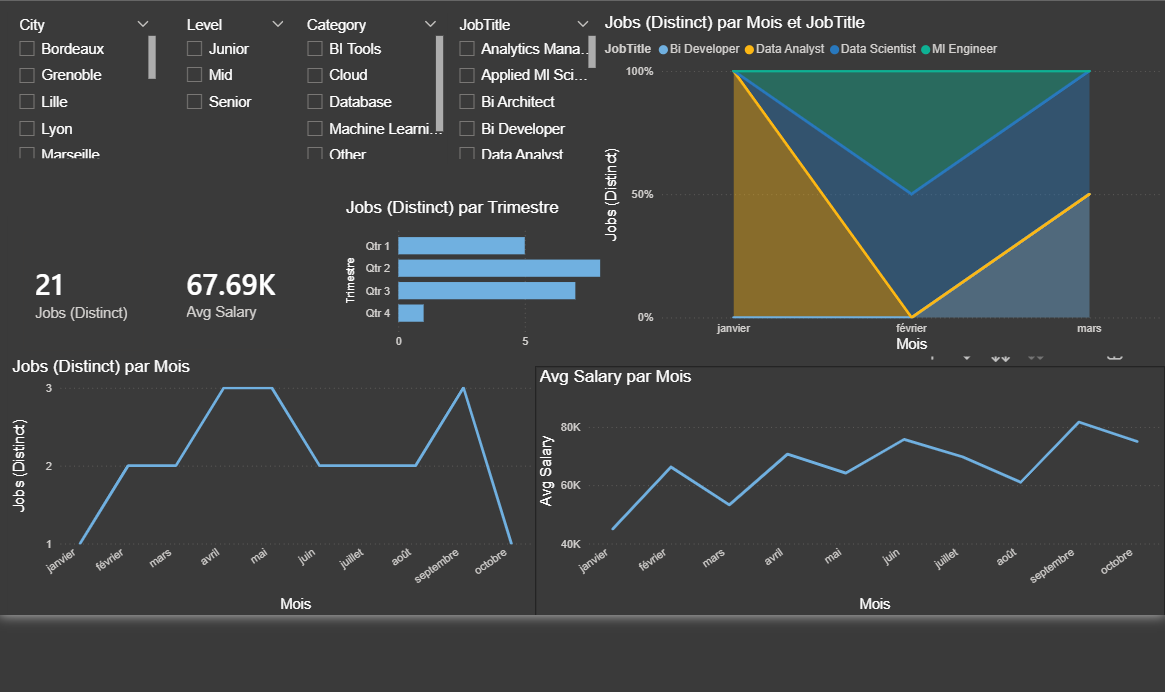

Layout of this report page (visuals, bound fields, positions):
{"tool":"powerbi","page":{"name":"04-Tendances","canvas":[1280,720],"ordinal":3},"visuals":[{"type":"slicer","fields":{"Values":["DimLocation.City"]},"box":[9.6,57.6,167.4,164.7],"z":0},{"type":"slicer","fields":{"Values":["DimExperience.Level"]},"box":[193.5,57.6,131.7,131.7],"z":1},{"type":"slicer","fields":{"Values":["JobsData.JobTitle"]},"box":[492.6,57.6,167.4,166],"z":2},{"type":"slicer","fields":{"Values":["DimSkills.Category"]},"box":[325.2,57.6,167.4,166],"z":3},{"type":"cardVisual","fields":{"Data":["Measures (2).Jobs (Distinct)"]},"box":[10,281.5,167,165],"z":4},{"type":"cardVisual","fields":{"Data":["Measures (2).Avg Salary"]},"box":[175.6,281.3,167.4,164.7],"z":5},{"type":"lineChart","fields":{"Category":["JobsData.PostedDate.Variation.Hiérarchie de dates.Année","JobsData.PostedDate.Variation.Hiérarchie de dates.Trimestre","JobsData.PostedDate.Variation.Hiérarchie de dates.Mois","JobsData.PostedDate.Variation.Hiérarchie de dates.Jour"],"Y":["Measures (2).Jobs (Distinct)"]},"box":[9.6,435,579.1,285.4],"z":6},{"type":"lineChart","fields":{"Category":["JobsData.PostedDate.Variation.Hiérarchie de dates.Année","JobsData.PostedDate.Variation.Hiérarchie de dates.Trimestre","JobsData.PostedDate.Variation.Hiérarchie de dates.Mois","JobsData.PostedDate.Variation.Hiérarchie de dates.Jour"],"Y":["Measures (2).Avg Salary"]},"box":[588.7,446,691.6,274.4],"z":7},{"type":"barChart","fields":{"Category":["JobsData.PostedDate.Variation.Hiérarchie de dates.Année","JobsData.PostedDate.Variation.Hiérarchie de dates.Trimestre","JobsData.PostedDate.Variation.Hiérarchie de dates.Mois","JobsData.PostedDate.Variation.Hiérarchie de dates.Jour"],"Y":["Measures (2).Jobs (Distinct)"]},"box":[376,260.7,293.7,174.3],"z":8},{"type":"hundredPercentStackedAreaChart","fields":{"Category":["JobsData.PostedDate.Variation.Hiérarchie de dates.Année","JobsData.PostedDate.Variation.Hiérarchie de dates.Trimestre","JobsData.PostedDate.Variation.Hiérarchie de dates.Mois","JobsData.PostedDate.Variation.Hiérarchie de dates.Jour"],"Y":["Measures (2).Jobs (Distinct)"],"Series":["JobsData.JobTitle"]},"box":[660,57.6,620.2,377.4],"z":9}]}

Visuals, with their boxes on the page's 1280x720 design canvas (x1, y1, x2, y2). These are canvas units, not pixel positions in the 1165x692 screenshot, which may show the page scaled, cropped or inside an application window:
slicer - DimLocation.City: (10, 58, 177, 222)
slicer - DimExperience.Level: (194, 58, 325, 189)
slicer - JobsData.JobTitle: (493, 58, 660, 224)
slicer - DimSkills.Category: (325, 58, 493, 224)
cardVisual - Measures (2).Jobs (Distinct): (10, 282, 177, 446)
cardVisual - Measures (2).Avg Salary: (176, 281, 343, 446)
lineChart - JobsData.PostedDate.Variation.Hiérarchie de dates.Année x JobsData.PostedDate.Variation.Hiérarchie de dates.Trimestre: (10, 435, 589, 720)
lineChart - JobsData.PostedDate.Variation.Hiérarchie de dates.Année x JobsData.PostedDate.Variation.Hiérarchie de dates.Trimestre: (589, 446, 1280, 720)
barChart - JobsData.PostedDate.Variation.Hiérarchie de dates.Année x JobsData.PostedDate.Variation.Hiérarchie de dates.Trimestre: (376, 261, 670, 435)
hundredPercentStackedAreaChart - JobsData.PostedDate.Variation.Hiérarchie de dates.Année x JobsData.PostedDate.Variation.Hiérarchie de dates.Trimestre: (660, 58, 1280, 435)
